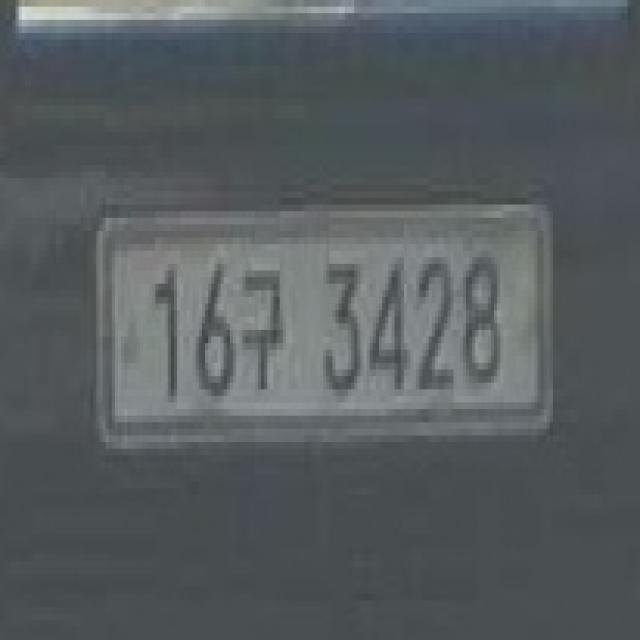1: (149, 244, 193, 422)
2: (413, 238, 460, 422)
3: (317, 250, 366, 416)
4: (364, 244, 413, 422)
6: (193, 244, 236, 416)
8: (460, 231, 509, 409)
gu: (239, 250, 295, 416)
license_plate: (84, 185, 565, 475)
